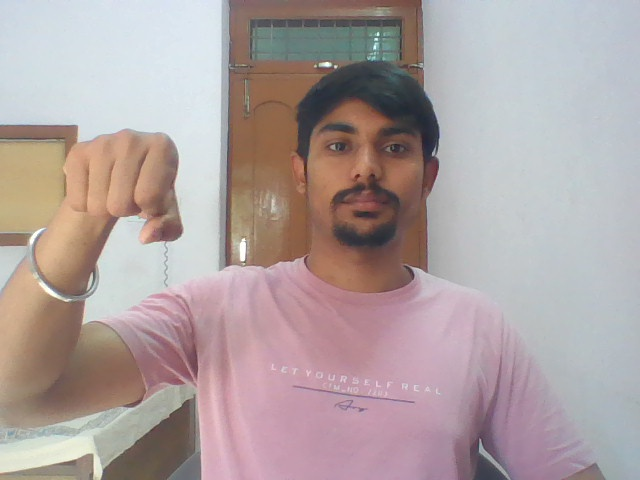Yes: (58, 126, 187, 256)
